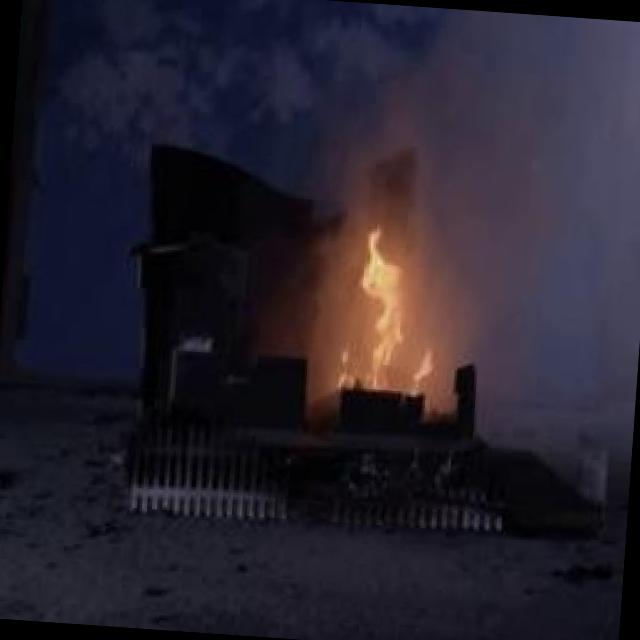fire: (306, 219, 460, 428)
smoke: (357, 3, 640, 263)
